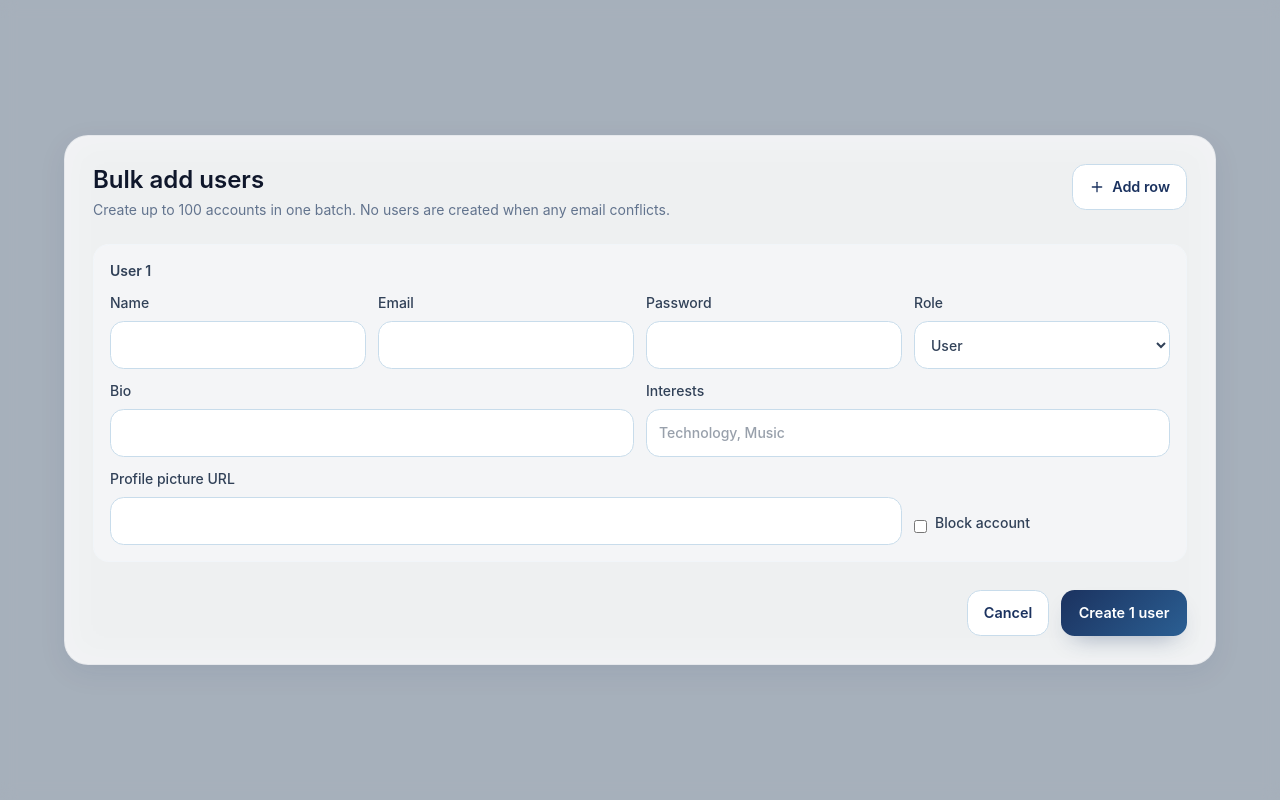
Test: admin bulk creation modals › rejects duplicate user emails before submitting a batch
Type "Jane" into the field named "User 1 name" at [238, 345], box [110,321,366,369]
Type "jane@example.com" into the field named "User 1 email" at [506, 345], box [378,321,634,369]
Type "password123" into the password field named "User 1 password" at [774, 345], box [646,321,902,369]
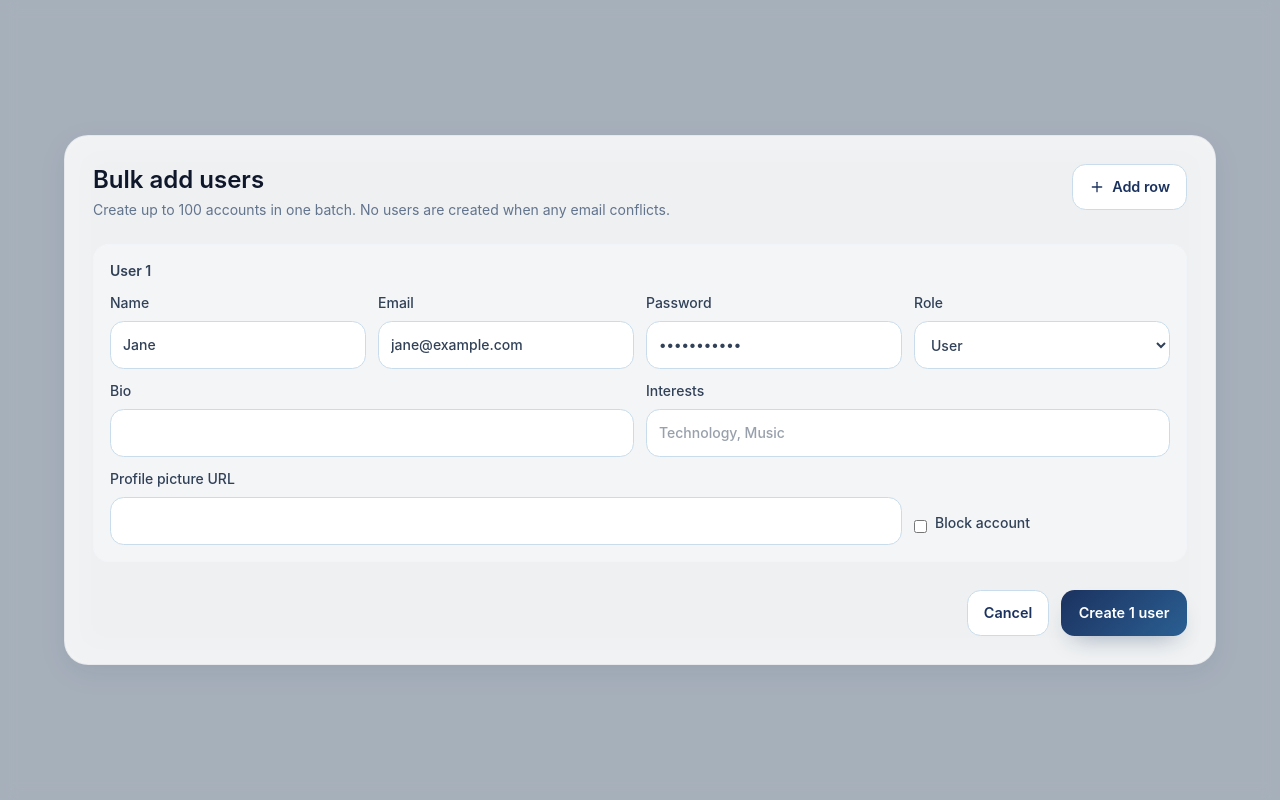
Click the button "Add row" at [1130, 187], box [1072,164,1187,210]
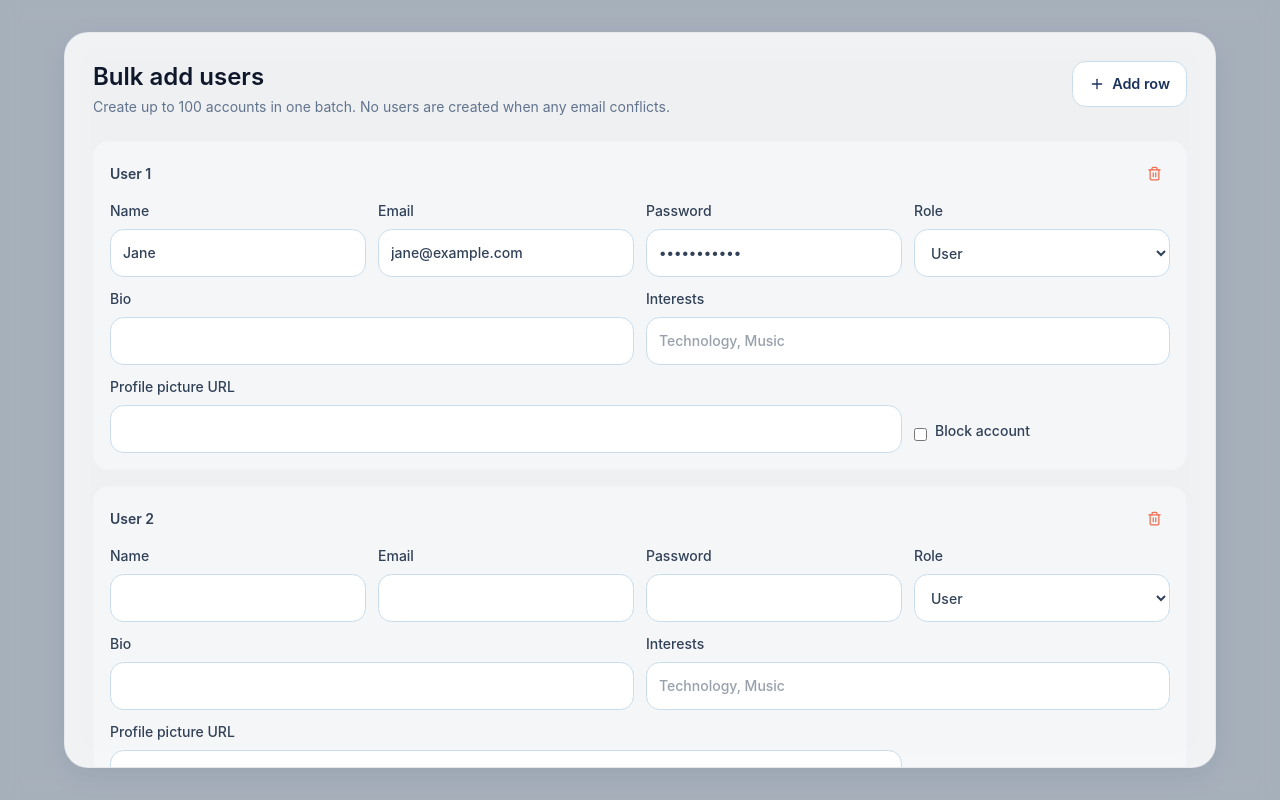
Type "Second Jane" into the field named "User 2 name" at [238, 598], box [110,574,366,622]
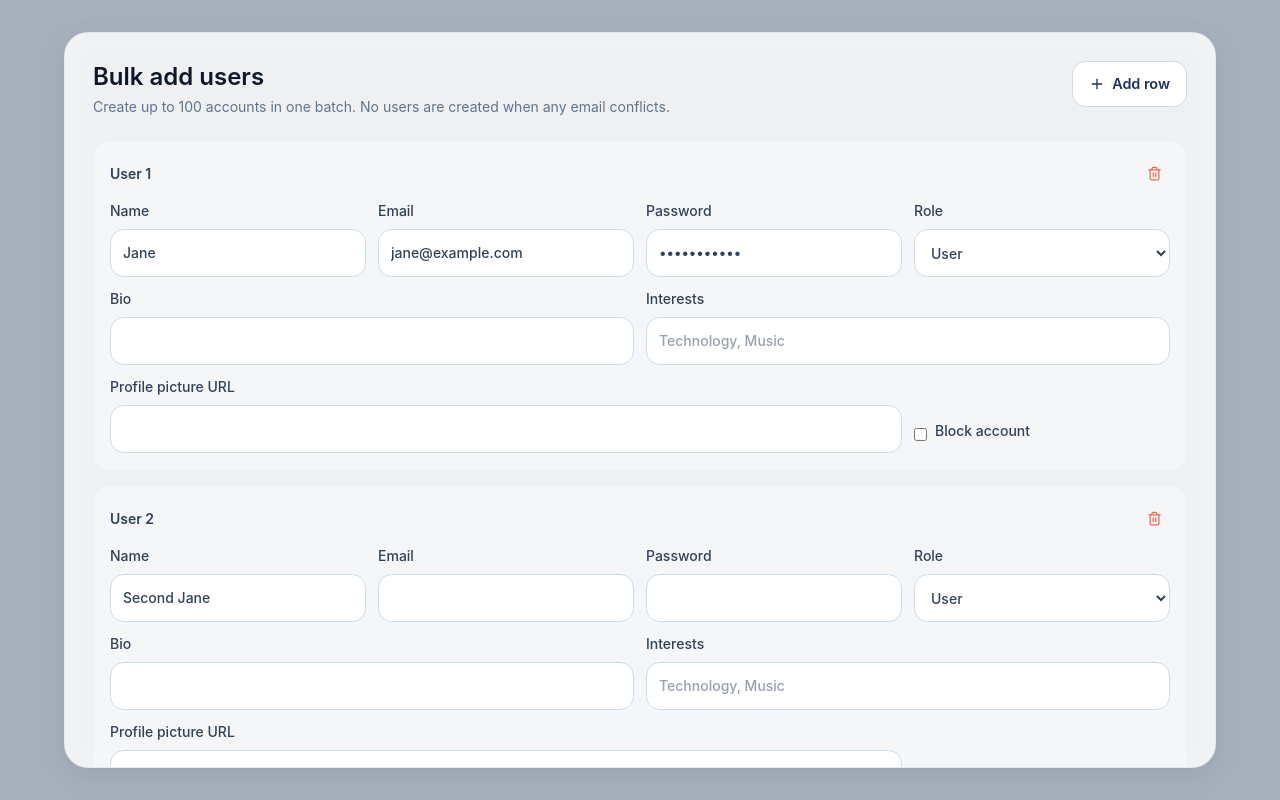
Type "JANE@example.com" into the field named "User 2 email" at [506, 598], box [378,574,634,622]
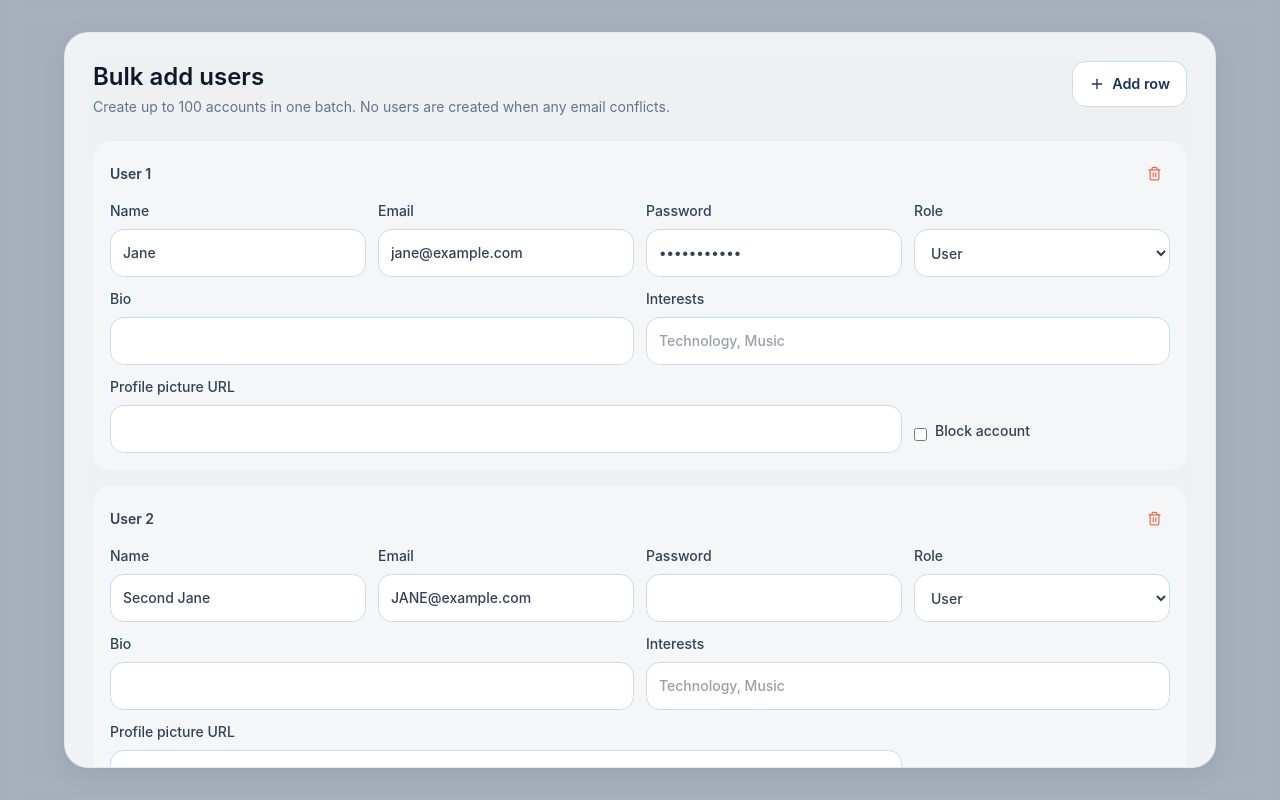
Type "password123" into the password field named "User 2 password" at [774, 598], box [646,574,902,622]
(page scrolled)
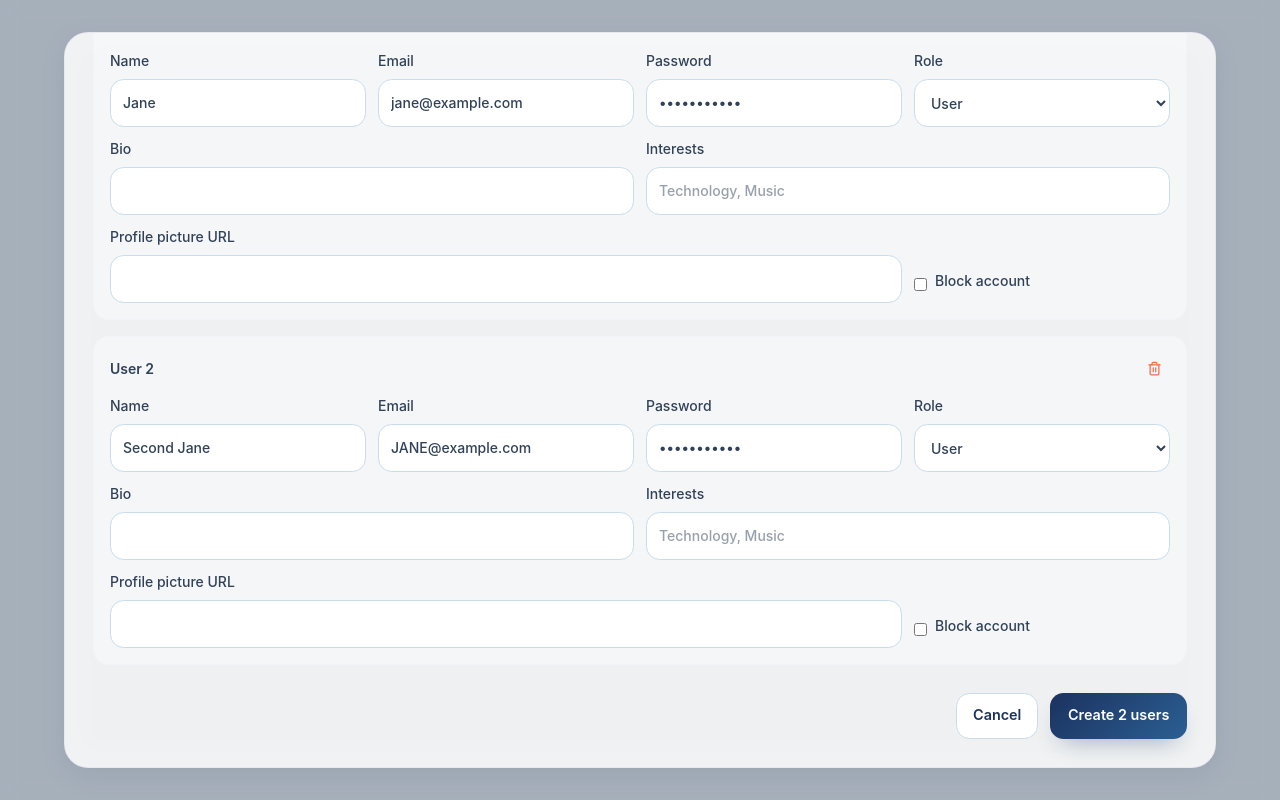
Click the button "Create 2 users" at [1119, 716], box [1050,693,1187,739]
(page scrolled)
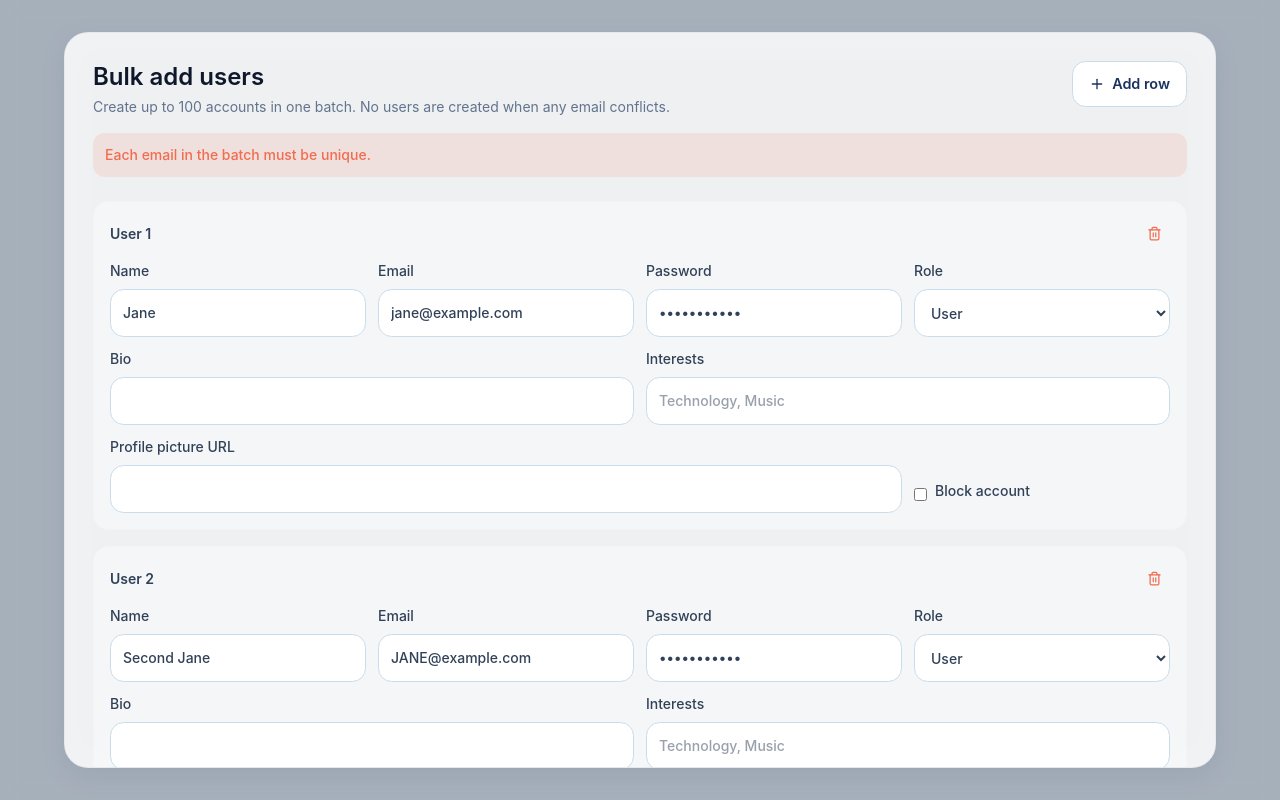
Now the text "Each email in the batch must be unique." is shown, box [93,133,1187,177]
